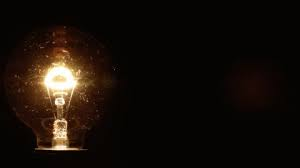bulb: (1, 23, 121, 158)
